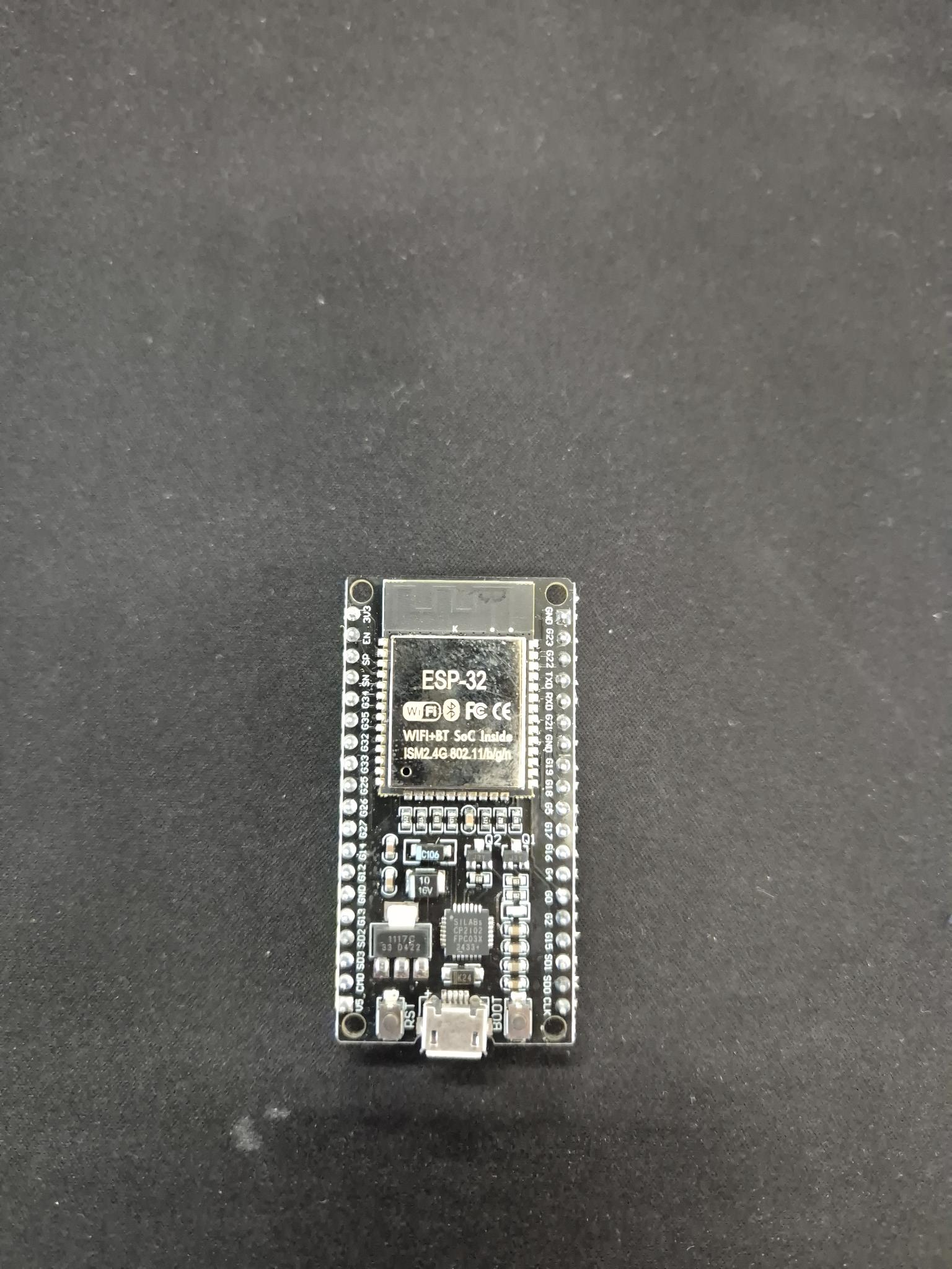esp32-dev: (336, 577, 576, 1058)
